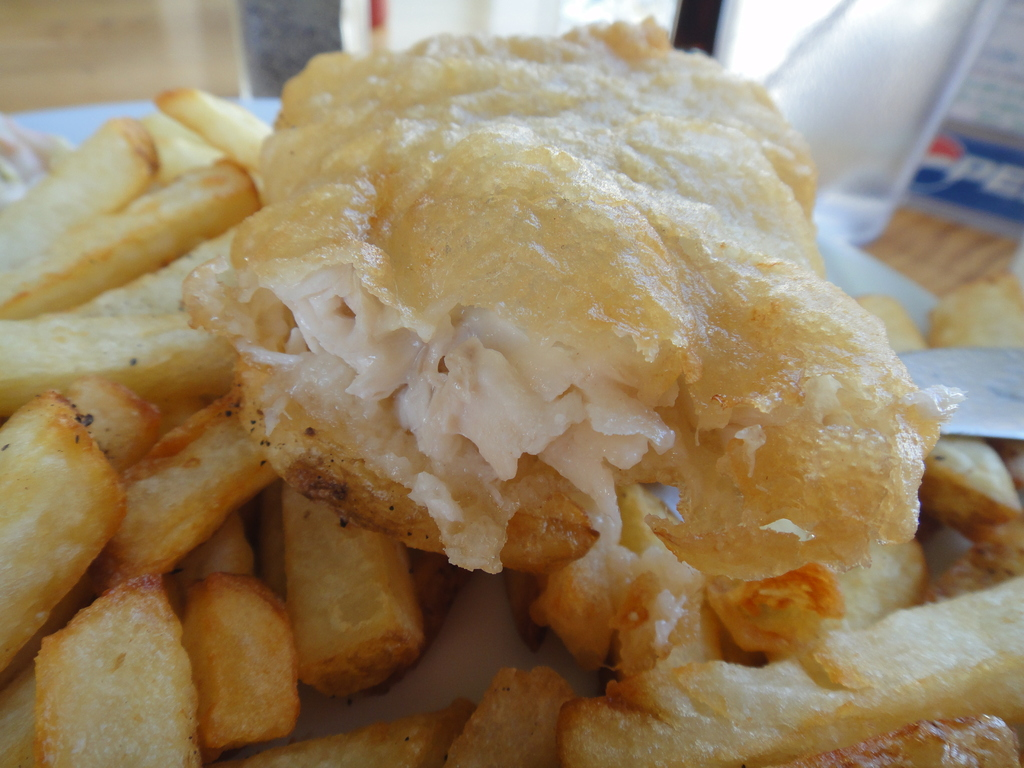French fries: (0, 89, 1023, 767), (6, 97, 268, 343)
